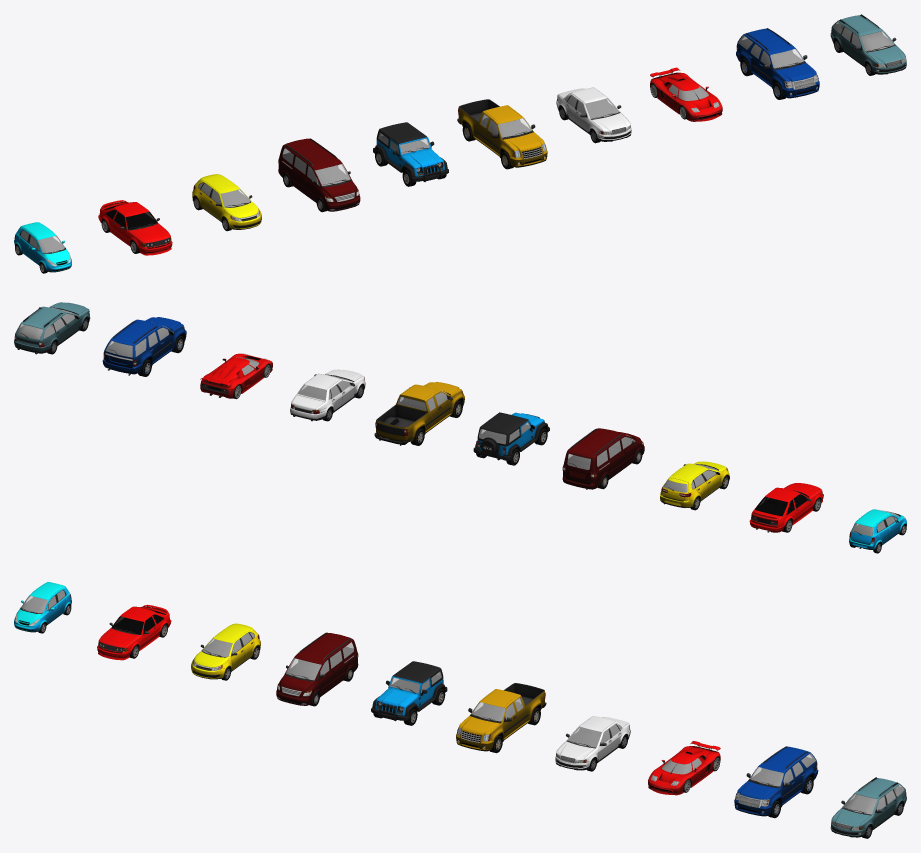
Rendered from CarPack001.FBX.
3 renders of one model, top to bottom at view 1: azimuth 30°, elevation 25°; view 2: azimuth 150°, elevation 25°; view 3: azimuth 330°, elevation 25°, orthographic.
Visible parts, largest first — view 1: minivan body, Pickup Body, SUV Body, Wagon Body, Offroad Body, Sedan Body, Coupe Body, Hatchback Body, Sport body, Compact Body; view 2: Pickup Body, minivan body, SUV Body, Wagon Body, Sedan Body, Offroad Body, Coupe Body, Hatchback Body, Sport body, Compact Body; view 3: minivan body, Pickup Body, SUV Body, Wagon Body, Offroad Body, Sedan Body, Coupe Body, Hatchback Body, Sport body, Compact Body.
Boxes of the visible parts, box(x1,y1,x2,y2) form: minivan body: box(278, 138, 360, 211); Pickup Body: box(457, 99, 547, 167); SUV Body: box(736, 28, 819, 98); Wagon Body: box(830, 14, 906, 74); Offroad Body: box(373, 122, 448, 181); Sedan Body: box(556, 87, 631, 141); Coupe Body: box(98, 200, 172, 255); Hatchback Body: box(192, 174, 261, 229); Sport body: box(650, 67, 722, 121); Compact Body: box(14, 222, 71, 272); Pickup Body: box(374, 382, 464, 445); minivan body: box(562, 428, 644, 489); SUV Body: box(102, 317, 186, 375); Wagon Body: box(14, 302, 90, 354); Sedan Body: box(290, 369, 365, 421); Offroad Body: box(473, 412, 549, 460); Coupe Body: box(749, 483, 823, 532); Hatchback Body: box(660, 461, 729, 507); Sport body: box(200, 353, 272, 398); Compact Body: box(849, 509, 906, 549); minivan body: box(276, 632, 358, 705); Pickup Body: box(456, 683, 546, 751); SUV Body: box(734, 746, 818, 816); Wagon Body: box(830, 777, 906, 837); Offroad Body: box(371, 661, 447, 721); Sedan Body: box(555, 716, 630, 770); Coupe Body: box(97, 604, 171, 660); Hatchback Body: box(191, 623, 260, 679); Sport body: box(648, 741, 720, 795); Compact Body: box(14, 582, 71, 632).
Size of the model in its own units: 47001 by 1986 by 5829.
23 materials, 22 textured.
